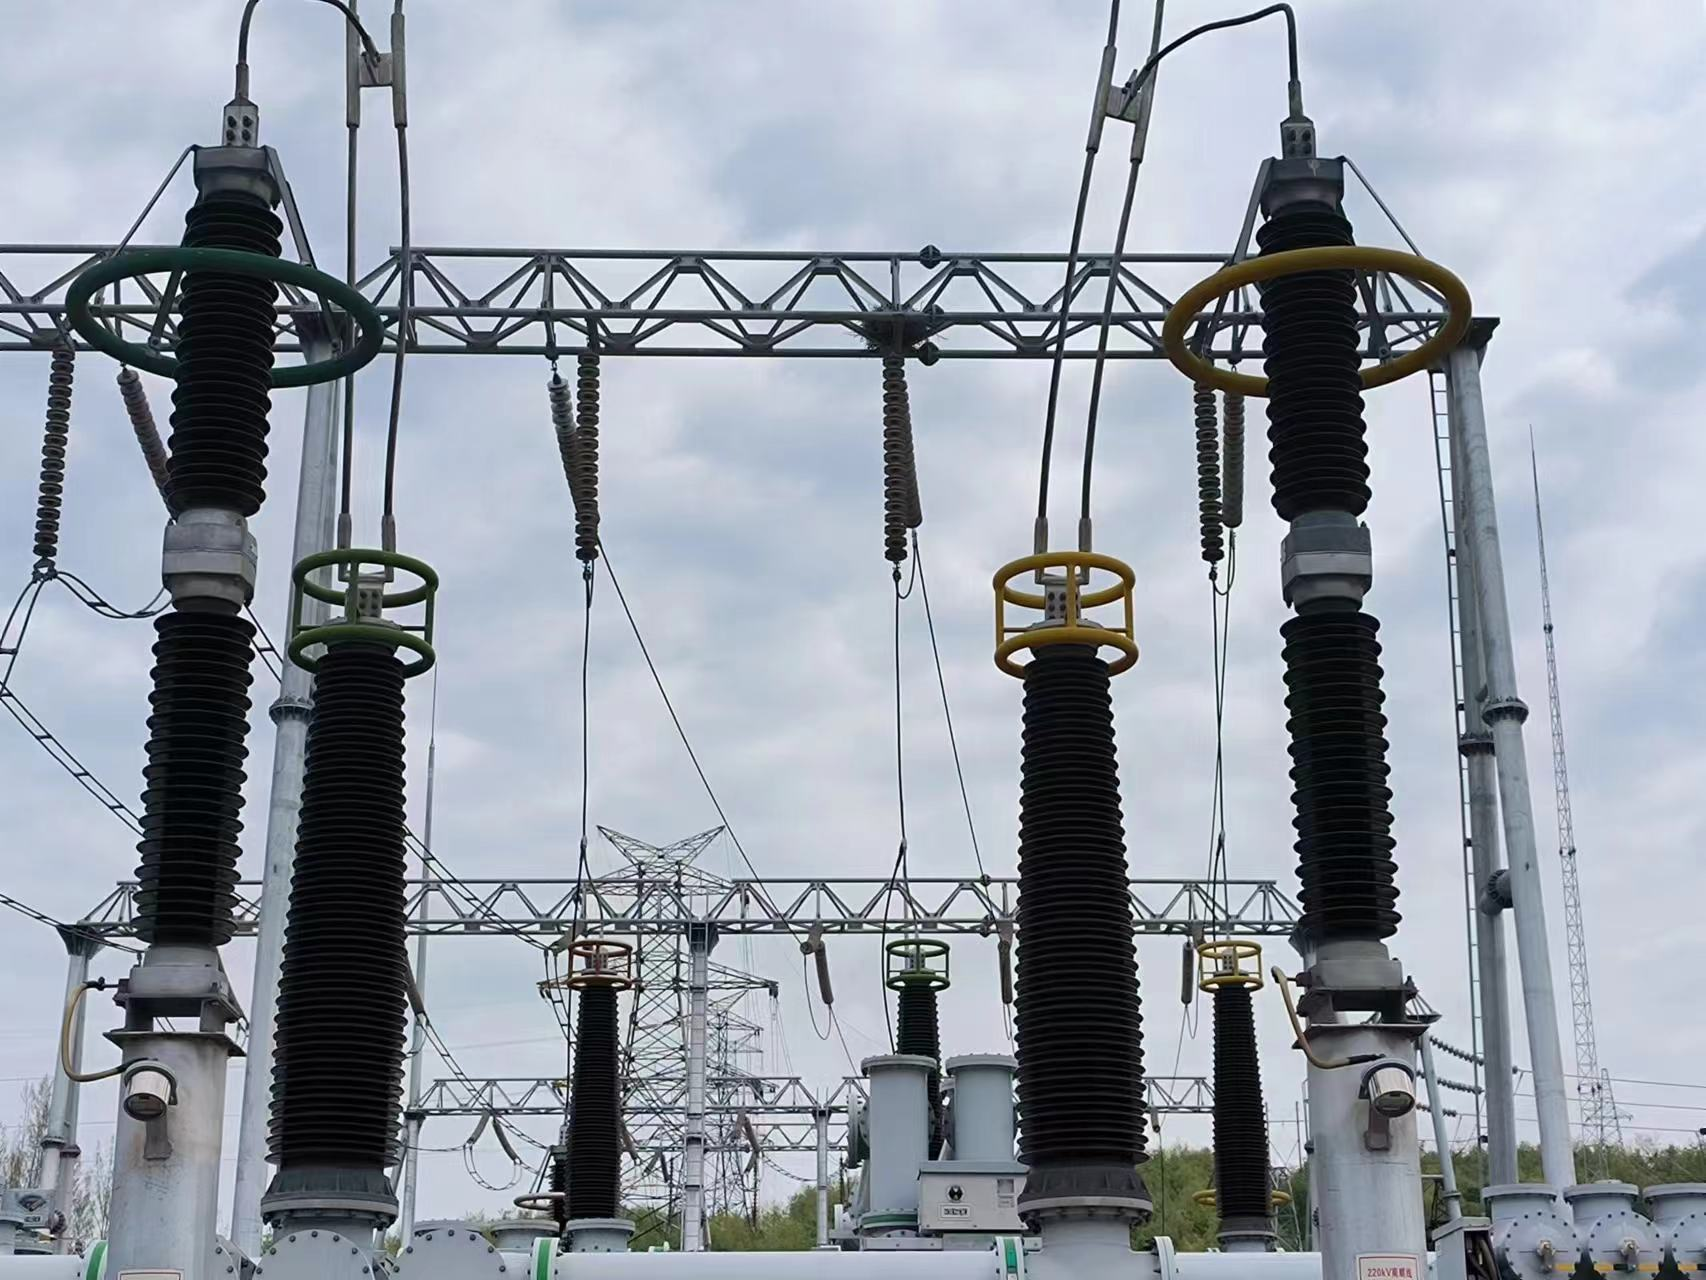Arrester: (65, 141, 383, 1015), (1163, 145, 1472, 1030)
Voltage transformer: (255, 545, 441, 1218), (988, 549, 1151, 1209), (1192, 938, 1274, 1230), (557, 938, 639, 1215)
